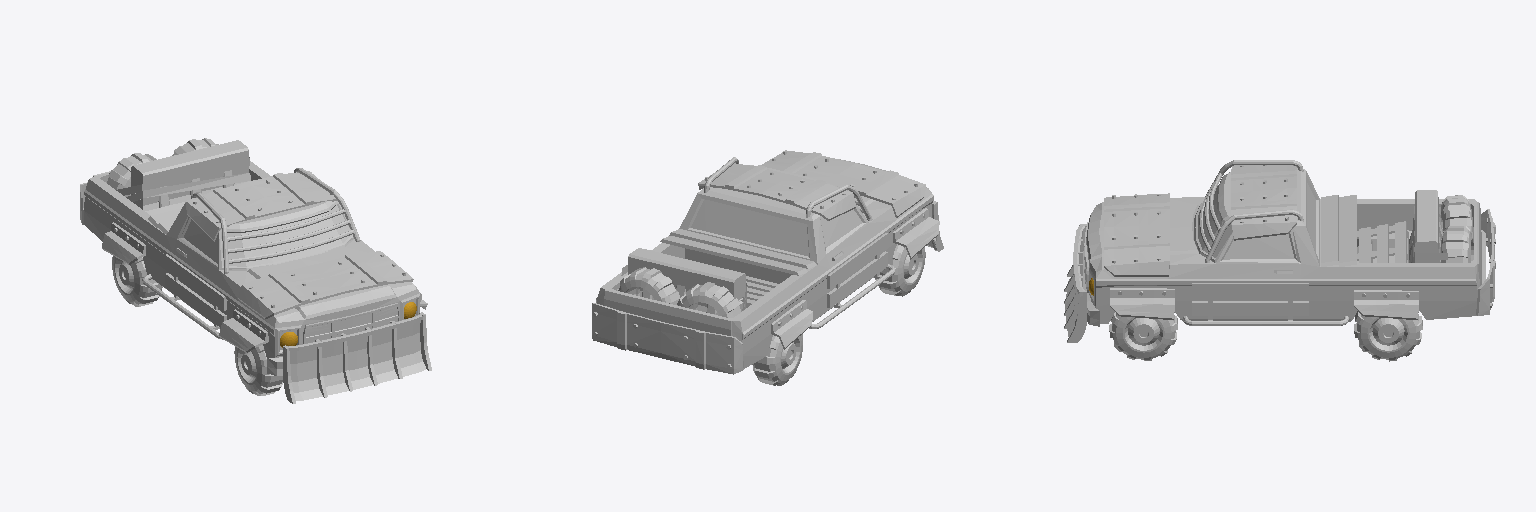
Rendered from Vehicle_Pickup_Armored.obj.
3 renders of one model, left to right at view 1: azimuth 30°, elevation 25°; view 2: azimuth 150°, elevation 25°; view 3: azimuth 270°, elevation 25°, orthographic.
Parts seen in each view (by area): view 1: Pickup_Armored_Cylinder.007, FrontWheel_R_Cylinder.001, BackWheels_Cylinder.002; view 2: Pickup_Armored_Cylinder.007, BackWheels_Cylinder.002, FrontWheel_R_Cylinder.001; view 3: Pickup_Armored_Cylinder.007, BackWheels_Cylinder.002, FrontWheel_L_Cylinder.003.
Part boxes in pixels (left/top/right/bottom): Pickup_Armored_Cylinder.007: left=80, top=138, right=431, bottom=403; FrontWheel_R_Cylinder.001: left=234, top=345, right=282, bottom=395; BackWheels_Cylinder.002: left=112, top=256, right=162, bottom=306; Pickup_Armored_Cylinder.007: left=592, top=150, right=943, bottom=374; BackWheels_Cylinder.002: left=752, top=334, right=802, bottom=385; FrontWheel_R_Cylinder.001: left=875, top=244, right=925, bottom=296; Pickup_Armored_Cylinder.007: left=1064, top=160, right=1495, bottom=342; BackWheels_Cylinder.002: left=1354, top=311, right=1422, bottom=361; FrontWheel_L_Cylinder.003: left=1109, top=312, right=1177, bottom=360.
Bounding box in the file's own units: 2.65 × 2 × 5.51.